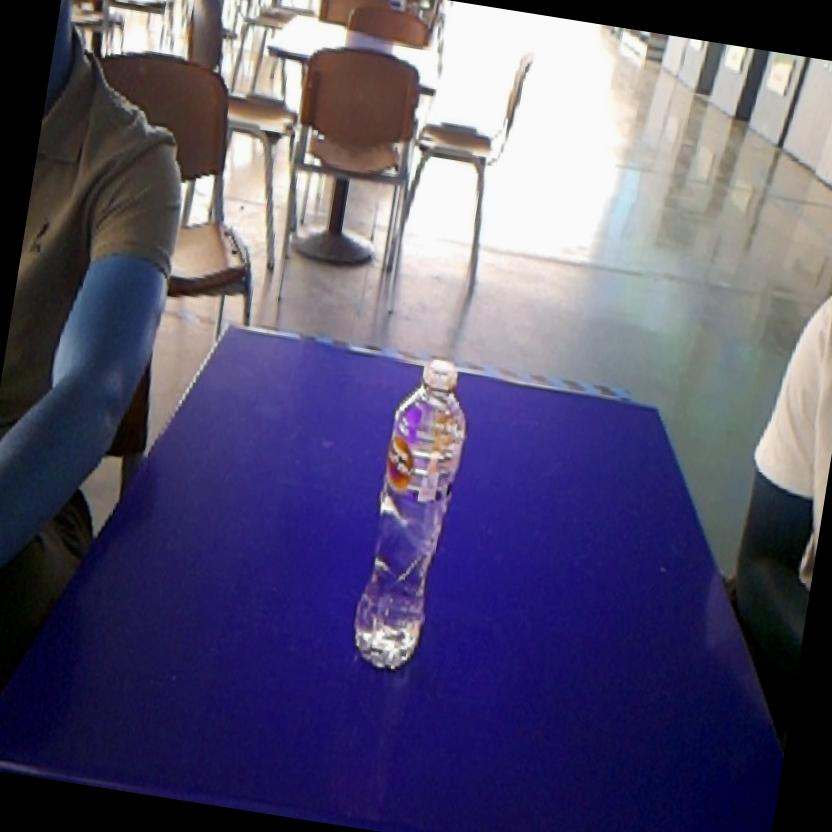no_cap: (338, 336, 486, 689)
